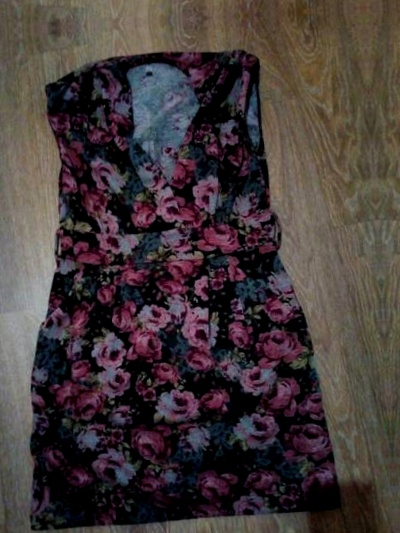Dress: (5, 31, 354, 531), (0, 0, 320, 10)
